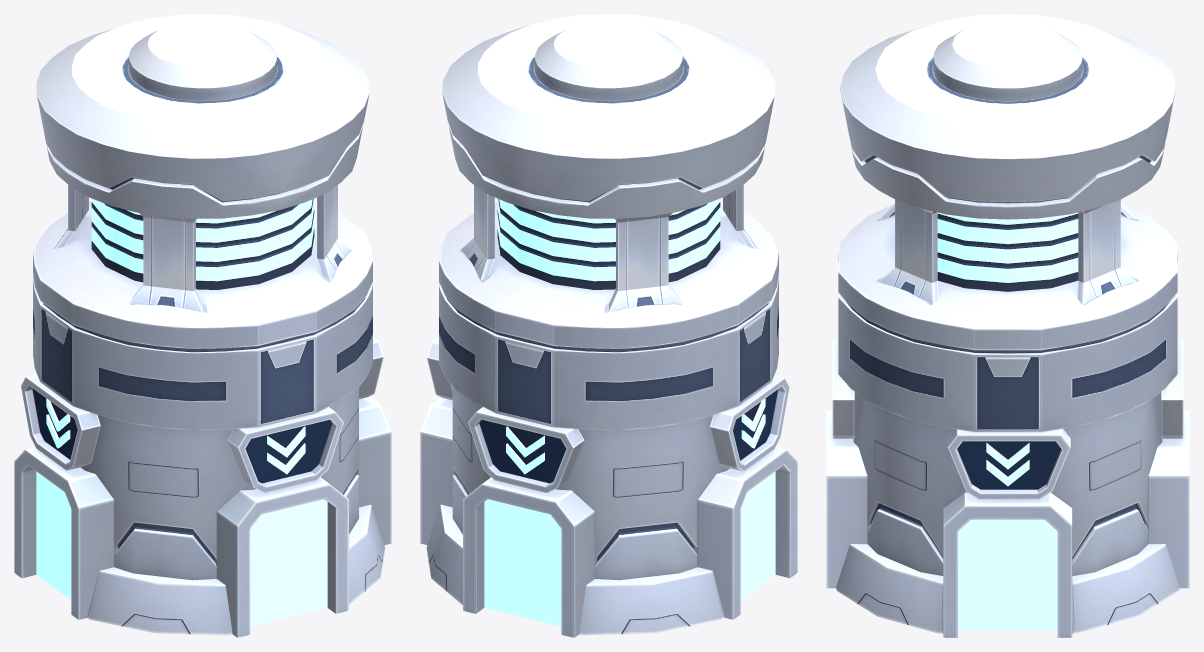
The model's file is obj_station.gltf.
3 views of the same model, side by side, from view 1: azimuth 30°, elevation 25°; view 2: azimuth 150°, elevation 25°; view 3: azimuth 270°, elevation 25° (orthographic).
Parts seen in each view (by area): view 1: obj_station; view 2: obj_station; view 3: obj_station.
Part boxes in pixels (x1,y1,x2,y2): obj_station: (14, 14, 391, 637); obj_station: (420, 14, 797, 637); obj_station: (826, 14, 1189, 637).
Size of what is drawn, in the model's own units: 6.73 by 10.56 by 6.73.
6 materials, 5 textured.
